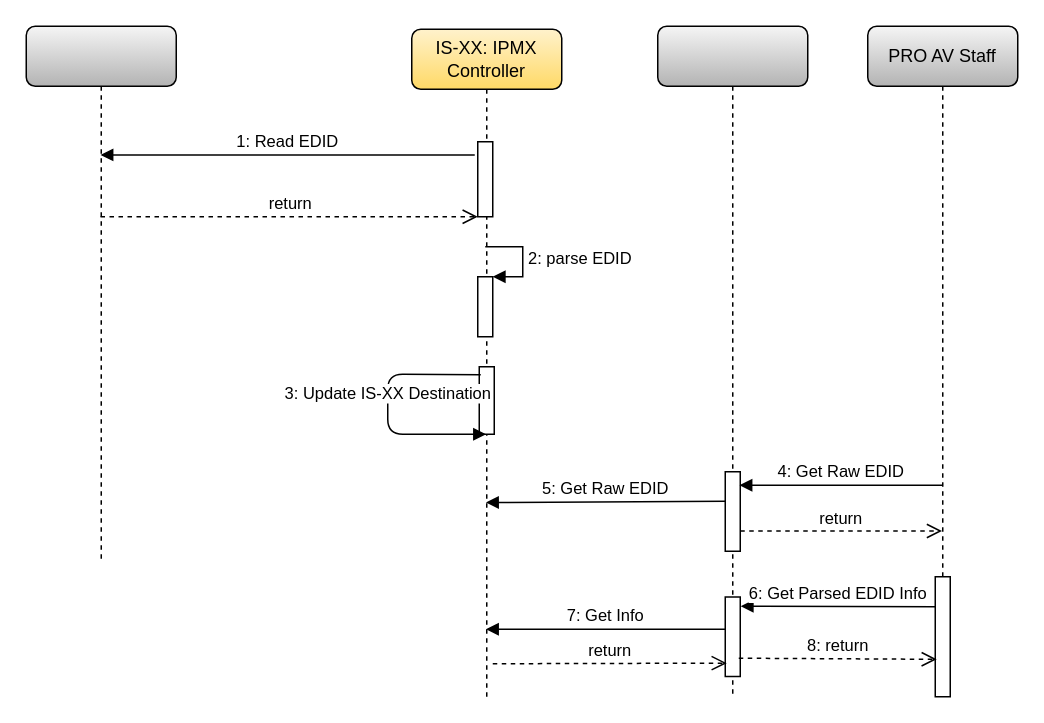
Image size: 1044x723. Some labels were removed from this diagram. The shapes that lost their labels are listed below. From the top down, each one's box as (x1, y1, x2, y2) in pixels, then its label:
(25, 25, 176, 562): HDMI Physical Destination 1
(656, 25, 808, 694): IPMX Control System
